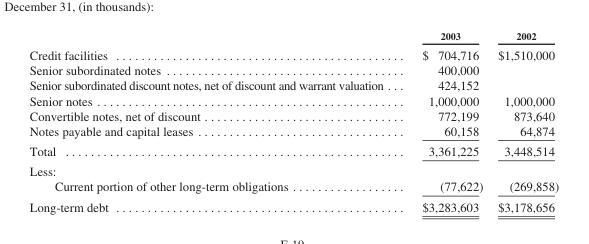table: (28, 29, 558, 213)
table column: (28, 29, 402, 213), (402, 29, 489, 213), (489, 29, 558, 213)
table column header: (28, 29, 558, 44)
table projected row header: (28, 160, 558, 178)
table row: (28, 140, 558, 160), (28, 44, 558, 62), (28, 122, 558, 140), (28, 160, 558, 178), (28, 178, 558, 196), (28, 196, 558, 213), (28, 29, 558, 44), (28, 62, 558, 77), (28, 77, 558, 92), (28, 92, 558, 107), (28, 107, 558, 122)
